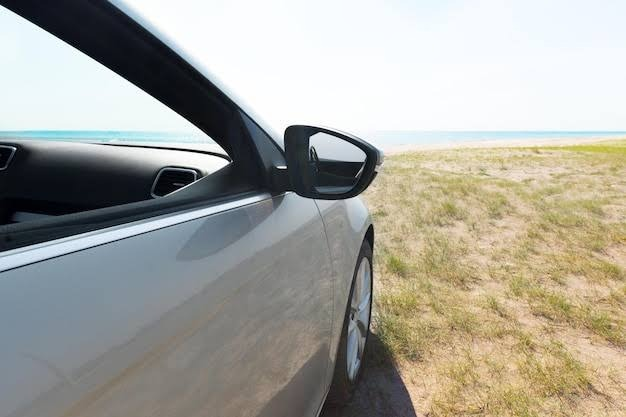car: (1, 8, 406, 417), (6, 5, 313, 275), (18, 67, 237, 250), (4, 133, 233, 238)
